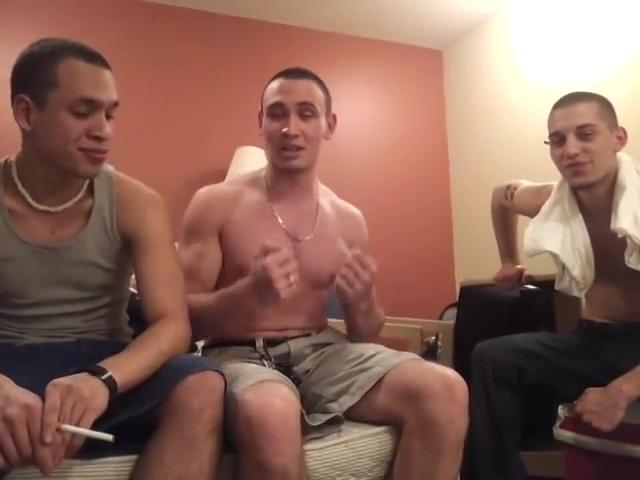cigarette: (54, 418, 118, 445)
